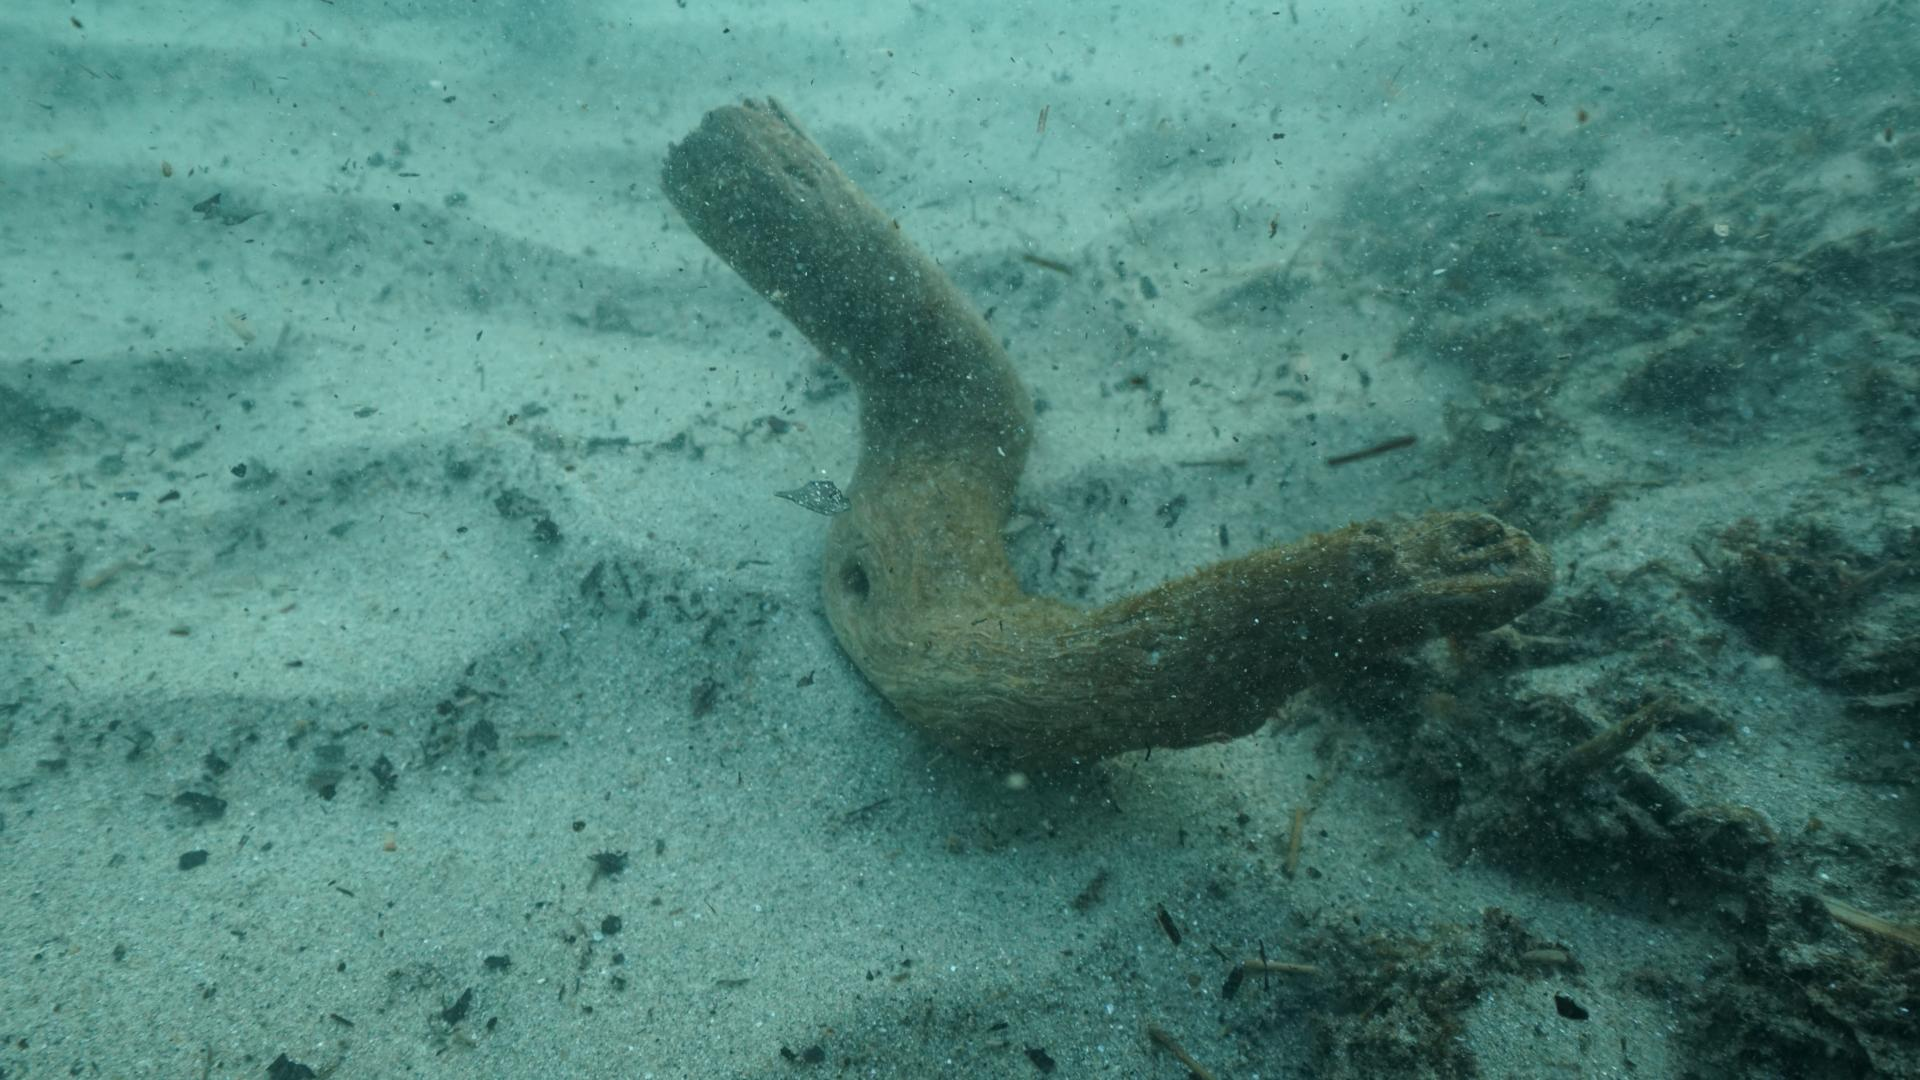wood: (657, 92, 1555, 771)
